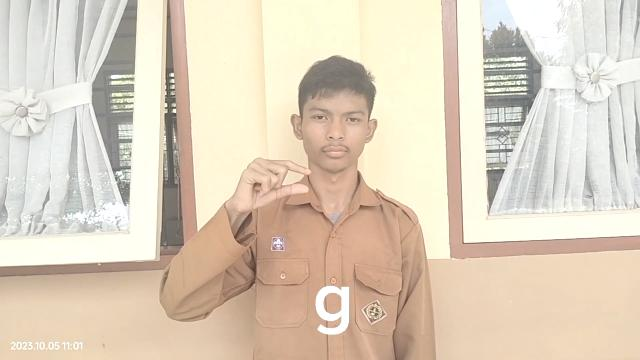G: (230, 156, 310, 210)
